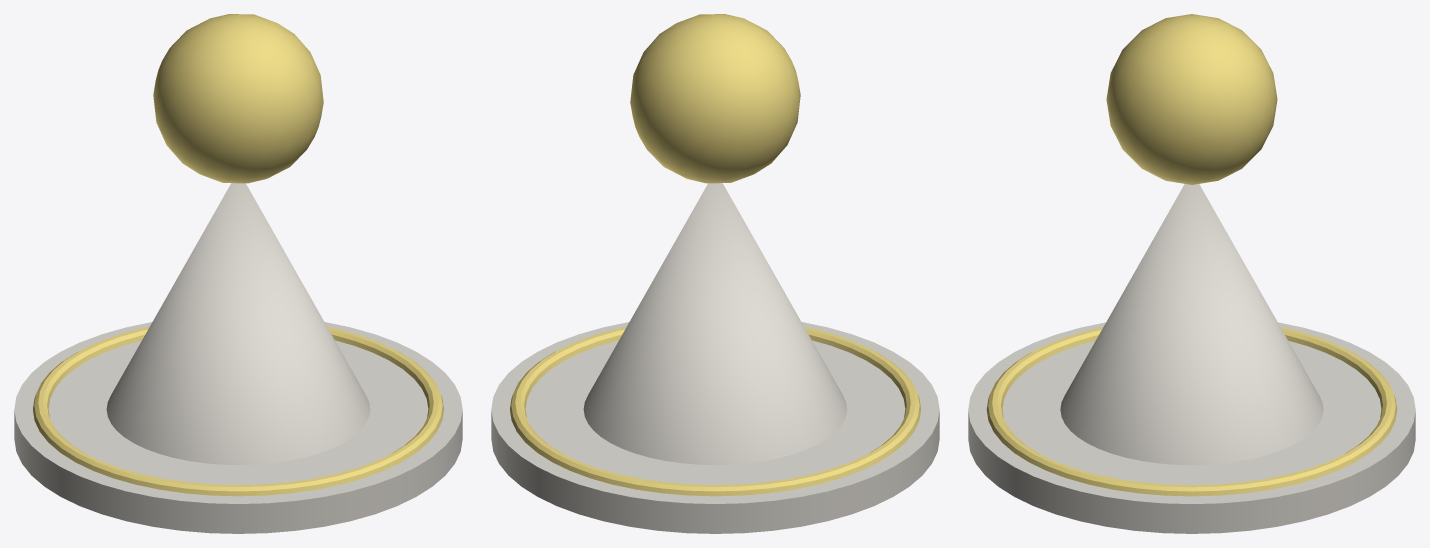
File: ArteModerno_Peon.fbx
3 views of the same model, side by side, from view 1: azimuth 30°, elevation 25°; view 2: azimuth 150°, elevation 25°; view 3: azimuth 270°, elevation 25° (orthographic).
Parts seen in each view (by area): view 1: ArteModerno_Peon; view 2: ArteModerno_Peon; view 3: ArteModerno_Peon.
Boxes of the visible parts, x1,y1,x2,y2 form: ArteModerno_Peon: (14, 14, 462, 533); ArteModerno_Peon: (491, 14, 939, 533); ArteModerno_Peon: (968, 14, 1415, 533).
Size of the model in its own units: 0.68 by 0.7 by 0.68.
